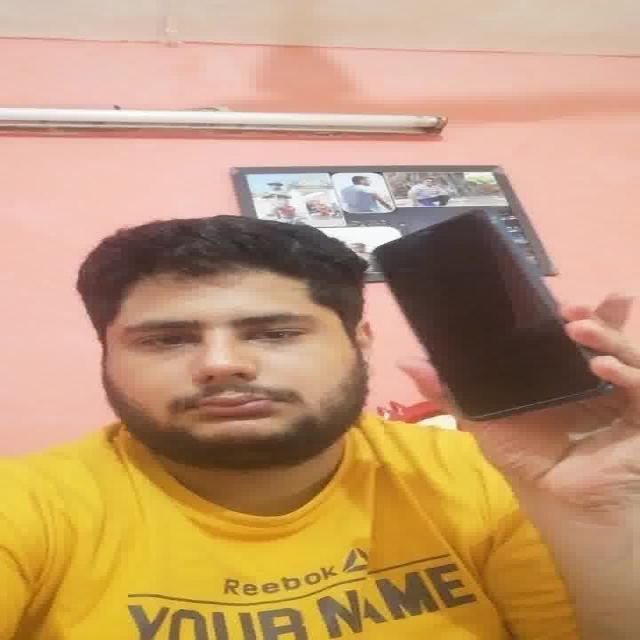Phone: (372, 210, 610, 421)
